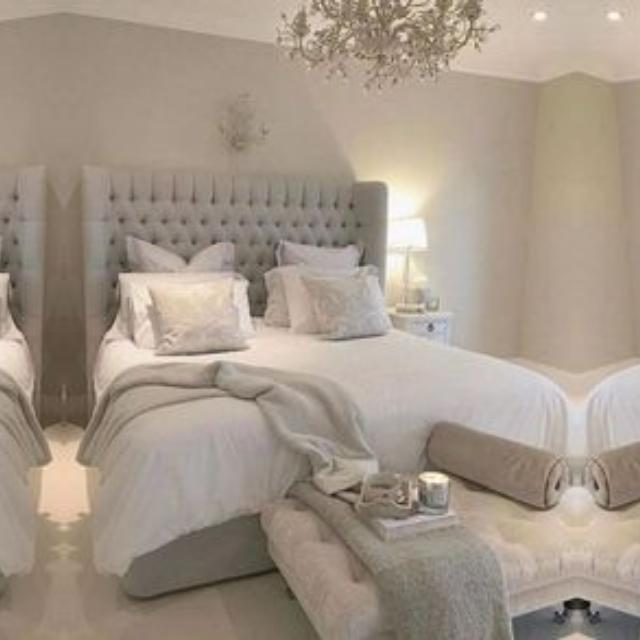bed: (78, 171, 565, 596)
lamp: (387, 218, 438, 312)
light: (275, 0, 498, 91)
table: (391, 314, 449, 344)
wall-art: (217, 91, 268, 173)
